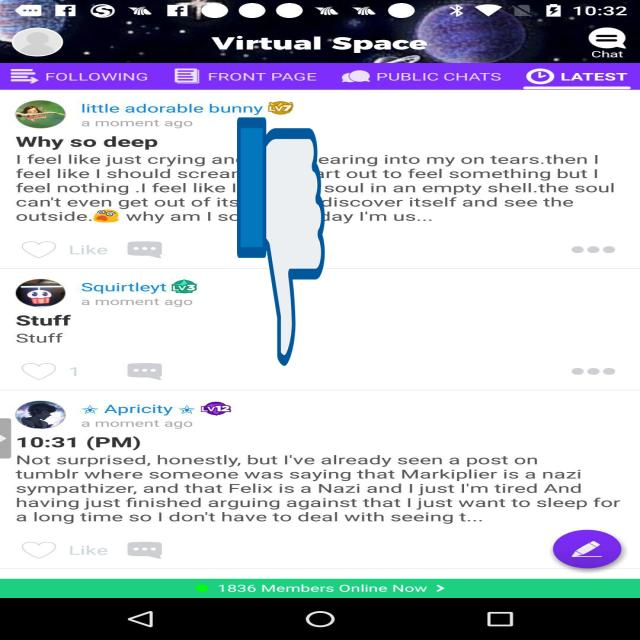obstruction: (237, 112, 325, 371)
